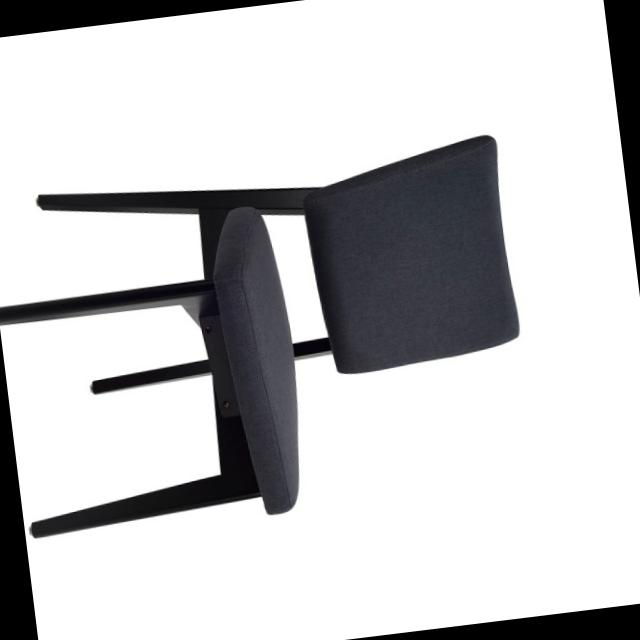Chair: (0, 130, 542, 549)
